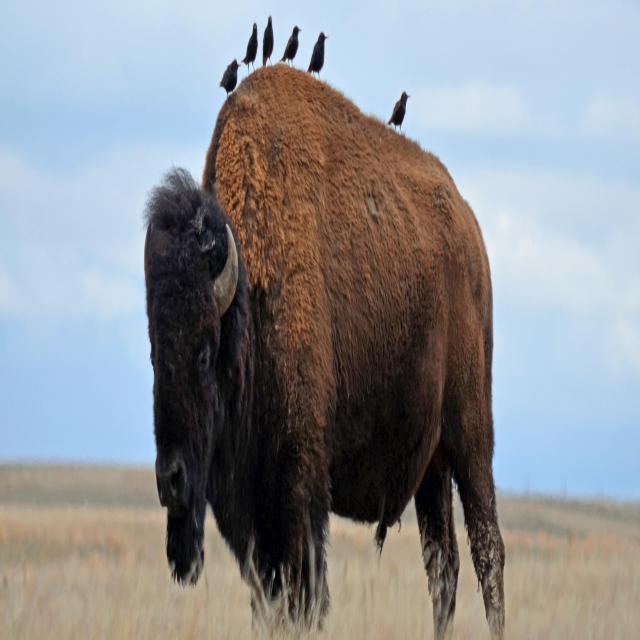Bison: (137, 50, 514, 636)
